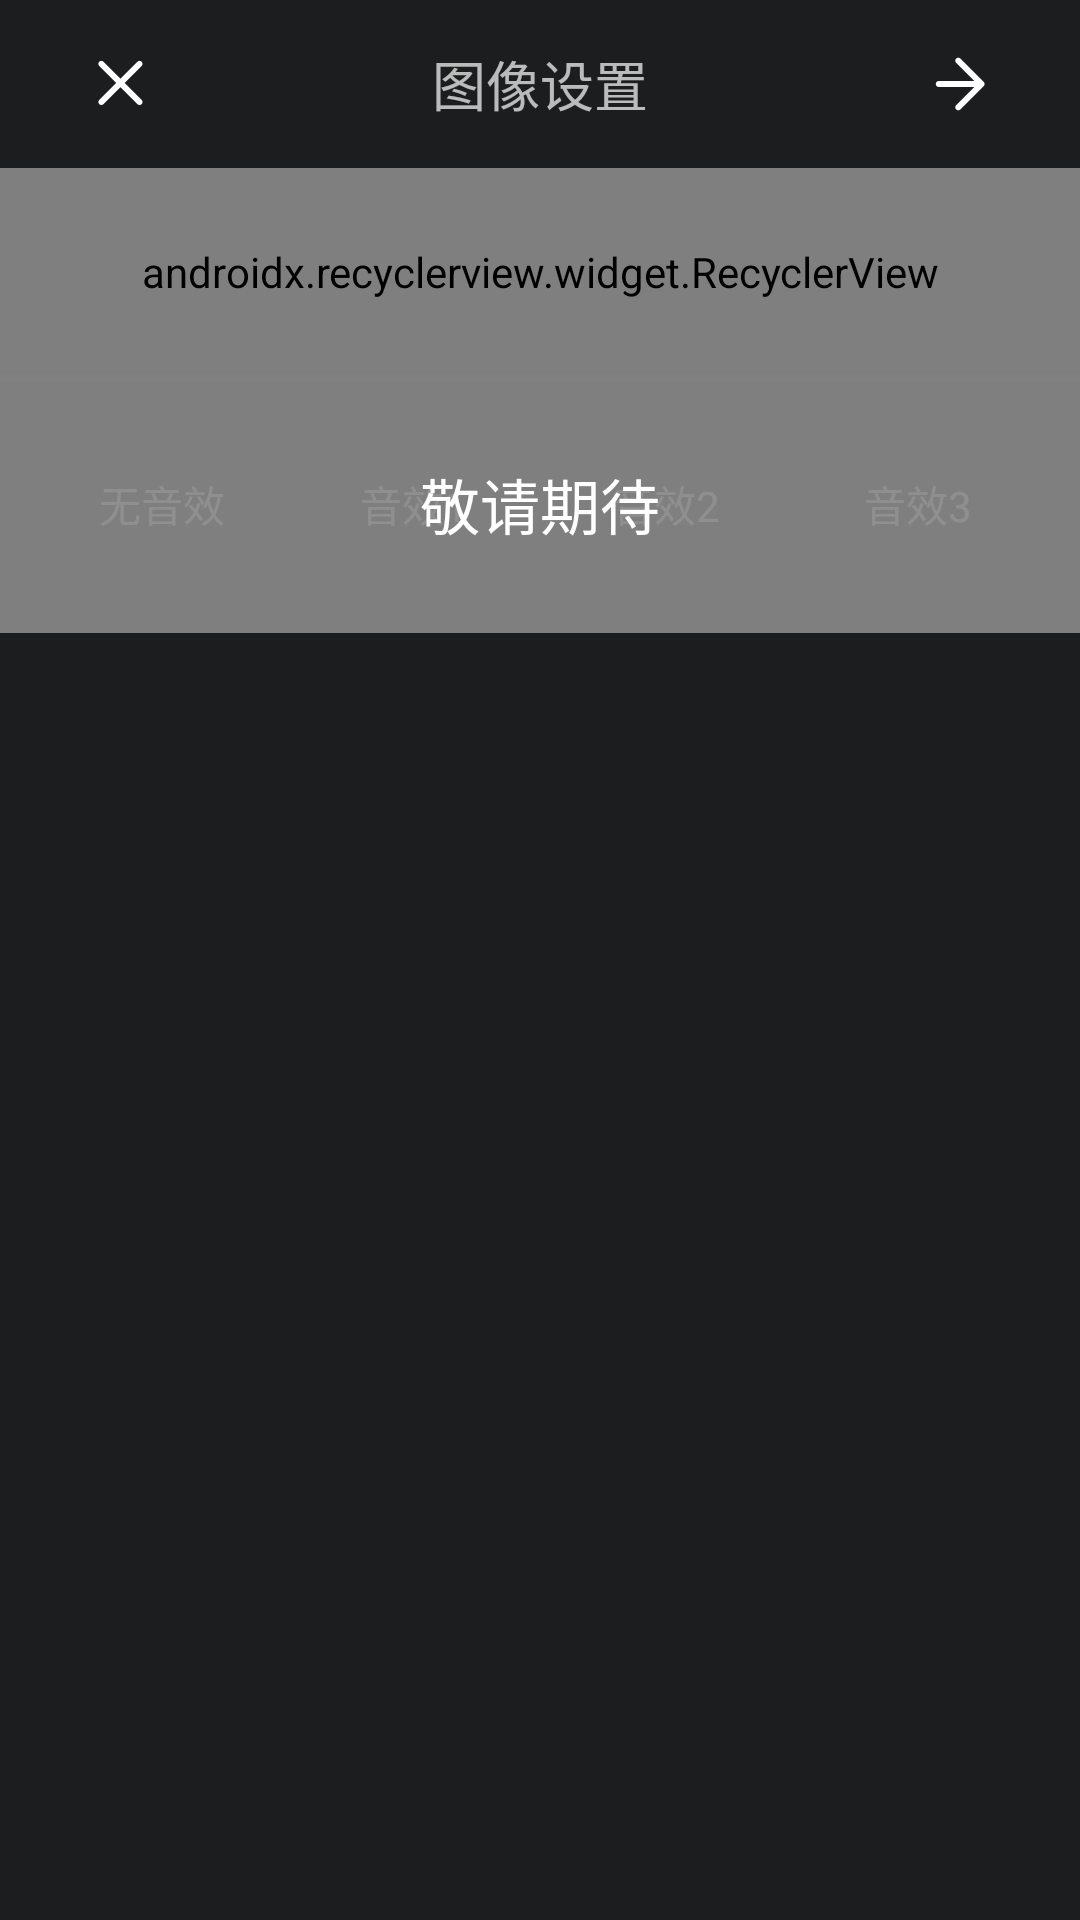

Where to tap for icons on this 1080px x 1920px app screen, as [x,y]:
cancel: [120,83]
next: [960,84]
